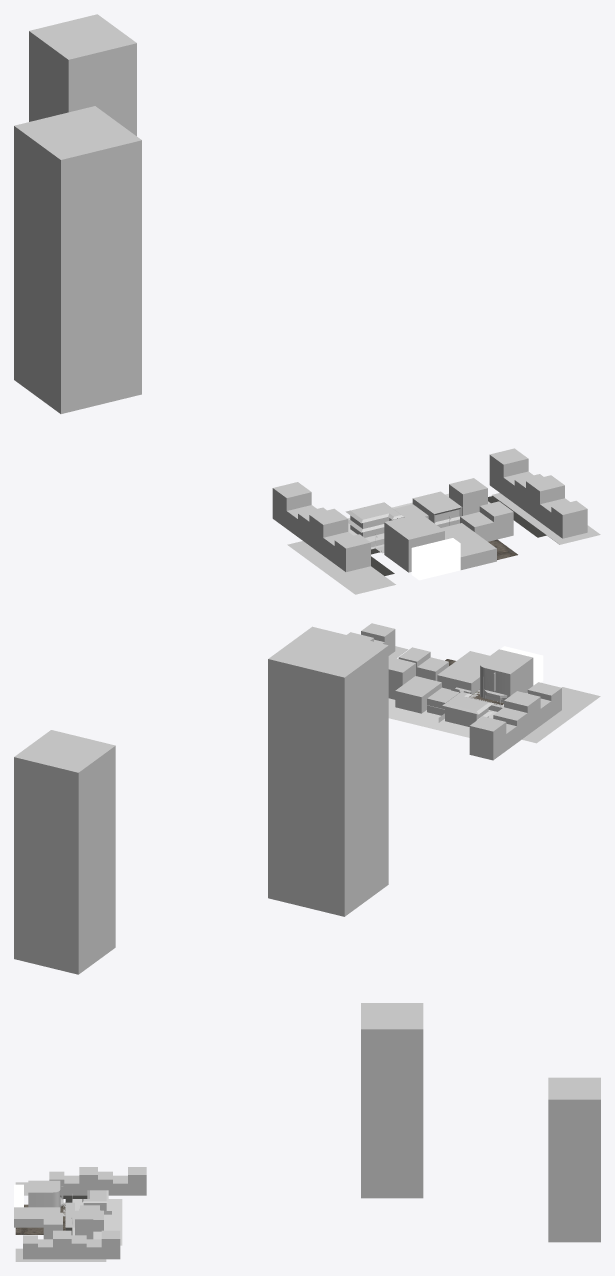
Rendered from Mapa expo.fbx.
The picture shows the model from 3 angles, top to bottom: view 1: azimuth 30°, elevation 25°; view 2: azimuth 150°, elevation 25°; view 3: azimuth 270°, elevation 25°; orthographic projection. The views are drawn at different scales.
Visible parts, largest first — view 1: Cube.024, Cube.025, Plane.006, Plane.008, Cube.003, Plane.007, Cube, Cube.001, Cube.012, Cube.006, Cube.011, Cube.008 (+5 smaller); view 2: Cube.024, Cube.025, Plane.006, Cube.011, Plane.007, Plane.008, Plane.004, Cube.001, Cube, Cube.008, Cube.018, Cube.006 (+5 smaller); view 3: Cube.024, Cube.025, Plane.006, Plane.007, Plane.004, Cube.017, Cube.014, Cube.011, Cube.018, Cube.008, Cube, Cube.015 (+2 smaller).
Part boxes in pixels (bbox=[...]): Cube.024: bbox=[14, 106, 141, 413]; Cube.025: bbox=[29, 14, 136, 135]; Plane.006: bbox=[384, 515, 444, 572]; Plane.008: bbox=[287, 541, 395, 594]; Cube.003: bbox=[411, 538, 460, 580]; Plane.007: bbox=[441, 523, 496, 569]; Cube: bbox=[345, 502, 403, 537]; Cube.001: bbox=[412, 491, 462, 527]; Cube.012: bbox=[551, 500, 587, 538]; Cube.006: bbox=[334, 534, 370, 571]; Cube.011: bbox=[272, 482, 311, 528]; Cube.008: bbox=[309, 508, 348, 555]; Cube.024: bbox=[268, 626, 388, 916]; Cube.025: bbox=[14, 730, 115, 974]; Plane.006: bbox=[480, 649, 533, 702]; Cube.011: bbox=[469, 716, 506, 760]; Plane.007: bbox=[437, 651, 489, 695]; Plane.008: bbox=[522, 687, 600, 743]; Plane.004: bbox=[388, 698, 496, 737]; Cube.001: bbox=[395, 676, 441, 713]; Cube: bbox=[442, 691, 493, 726]; Cube.008: bbox=[504, 691, 540, 734]; Cube.018: bbox=[388, 657, 415, 699]; Cube.006: bbox=[527, 682, 561, 717]; Cube.024: bbox=[361, 1003, 423, 1198]; Cube.025: bbox=[548, 1077, 600, 1242]; Plane.006: bbox=[28, 1180, 60, 1207]; Plane.007: bbox=[14, 1207, 65, 1227]; Plane.004: bbox=[72, 1199, 122, 1245]; Cube.017: bbox=[101, 1230, 120, 1259]; Cube.014: bbox=[53, 1230, 71, 1259]; Cube.011: bbox=[128, 1167, 146, 1195]; Cube.018: bbox=[75, 1211, 93, 1239]; Cube.008: bbox=[79, 1167, 97, 1195]; Cube: bbox=[82, 1190, 108, 1210]; Cube.015: bbox=[71, 1235, 86, 1259].
Bounding box in the file's own units: 21970 × 19049 × 60038.
